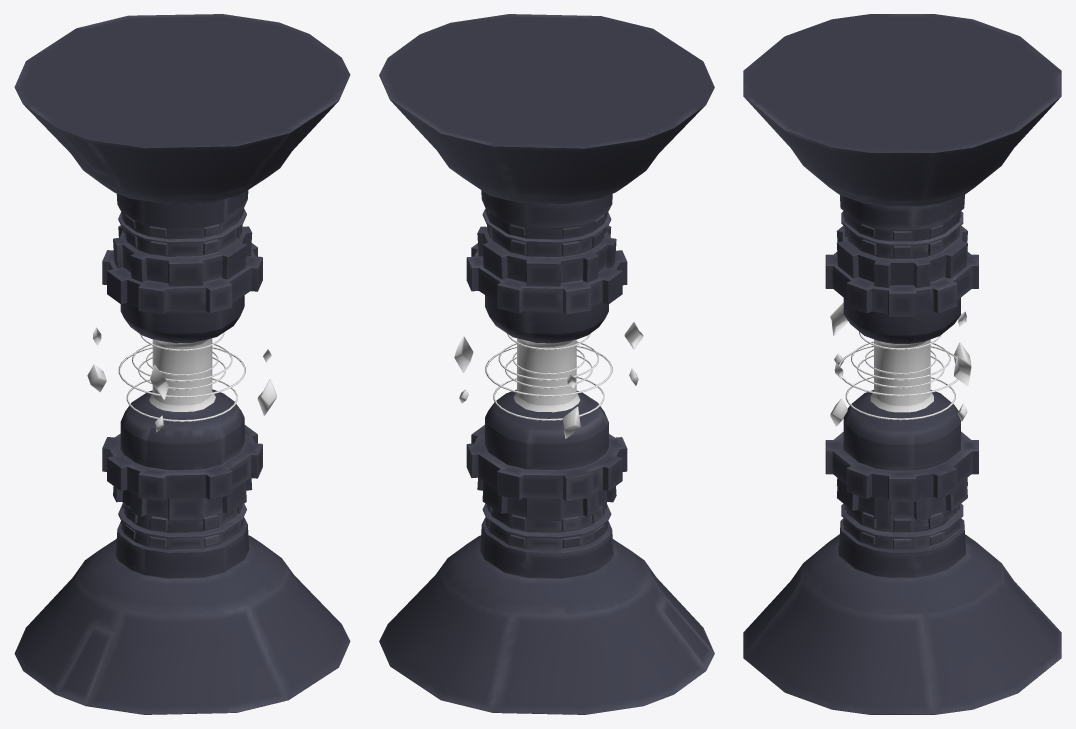
The model's file is Reactor.fbx.
3 views of the same model, side by side, from view 1: azimuth 30°, elevation 25°; view 2: azimuth 150°, elevation 25°; view 3: azimuth 270°, elevation 25° (orthographic).
Parts seen in each view (by area): view 1: Base1.047, Base1.011, Base1.010, Base1.012, Base1.001, Cube.002, Ring3.2, Cube.001; view 2: Base1.047, Base1.011, Base1.010, Base1.012, Base1.001, Cube.001, Cube.002, Ring3.2; view 3: Base1.047, Base1.011, Base1.010, Base1.012, Base1.001, Cube.001, Cube.002.
Part boxes in pixels (x1=…): Base1.047: x1=14, y1=14, x2=350, y2=714; Base1.011: x1=102, y1=243, x2=262, y2=501; Base1.010: x1=120, y1=295, x2=244, y2=470; Base1.012: x1=113, y1=225, x2=252, y2=520; Base1.001: x1=149, y1=338, x2=215, y2=411; Cube.002: x1=87, y1=364, x2=276, y2=432; Ring3.2: x1=118, y1=346, x2=245, y2=397; Cube.001: x1=93, y1=327, x2=271, y2=399; Base1.047: x1=379, y1=14, x2=714, y2=714; Base1.011: x1=466, y1=243, x2=627, y2=501; Base1.010: x1=484, y1=295, x2=609, y2=470; Base1.012: x1=477, y1=225, x2=616, y2=520; Base1.001: x1=513, y1=338, x2=580, y2=412; Cube.001: x1=454, y1=322, x2=643, y2=388; Cube.002: x1=459, y1=368, x2=638, y2=438; Ring3.2: x1=485, y1=345, x2=612, y2=396; Base1.047: x1=743, y1=14, x2=1061, y2=714; Base1.011: x1=825, y1=252, x2=978, y2=501; Base1.010: x1=843, y1=298, x2=961, y2=471; Base1.012: x1=836, y1=225, x2=967, y2=520; Base1.001: x1=870, y1=339, x2=933, y2=412; Cube.001: x1=830, y1=302, x2=971, y2=385; Cube.002: x1=830, y1=342, x2=971, y2=426.
Bounding box in the file's own units: 257 × 487 × 250.
